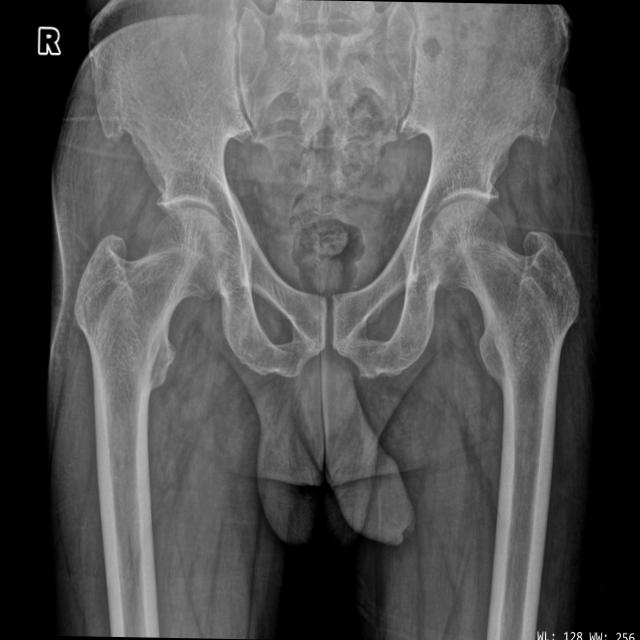normal-left: (427, 199, 580, 532)
normal-right: (74, 208, 232, 537)
